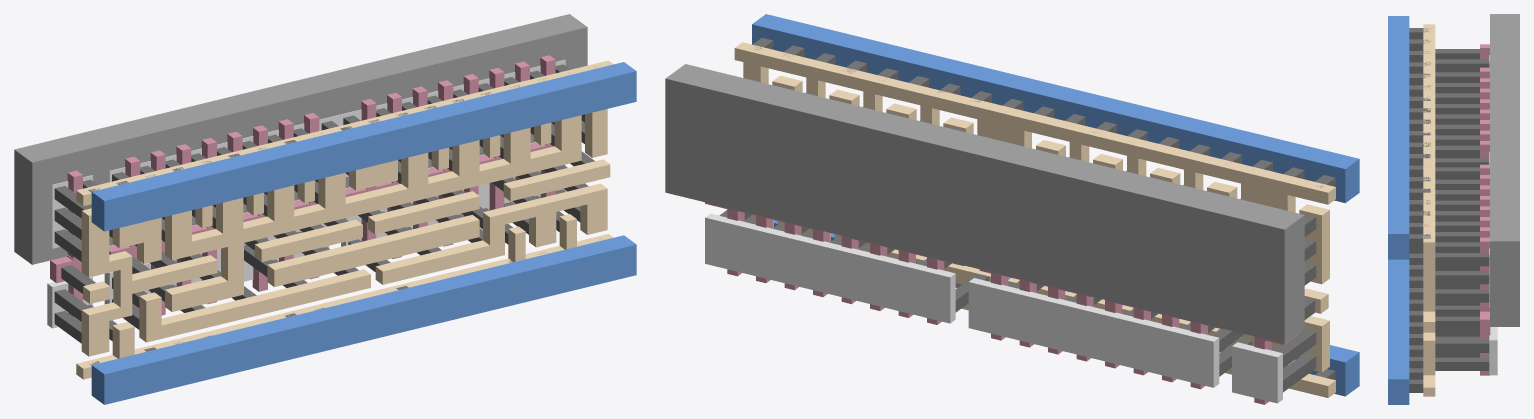
The model's file is sky130_fd_sc_hd__nand4b_4.gds.gltf.
3 renders of one model, left to right at view 1: azimuth 30°, elevation 25°; view 2: azimuth 150°, elevation 25°; view 3: azimuth 270°, elevation 25°, orthographic. The views are drawn at different scales.
Visible parts, largest first — view 1: sky130_fd_sc_hd__nand4b_4_li1, sky130_fd_sc_hd__nand4b_4_met1, sky130_fd_sc_hd__nand4b_4_nwell, sky130_fd_sc_hd__nand4b_4_licon, sky130_fd_sc_hd__nand4b_4_poly, sky130_fd_sc_hd__nand4b_4_diff, sky130_fd_sc_hd__nand4b_4_mcon; view 2: sky130_fd_sc_hd__nand4b_4_nwell, sky130_fd_sc_hd__nand4b_4_diff, sky130_fd_sc_hd__nand4b_4_li1, sky130_fd_sc_hd__nand4b_4_met1, sky130_fd_sc_hd__nand4b_4_licon, sky130_fd_sc_hd__nand4b_4_poly, sky130_fd_sc_hd__nand4b_4_mcon; view 3: sky130_fd_sc_hd__nand4b_4_licon, sky130_fd_sc_hd__nand4b_4_nwell, sky130_fd_sc_hd__nand4b_4_met1, sky130_fd_sc_hd__nand4b_4_mcon, sky130_fd_sc_hd__nand4b_4_li1, sky130_fd_sc_hd__nand4b_4_poly, sky130_fd_sc_hd__nand4b_4_diff.
Part boxes in pixels (box(x1,y1,x2,y2)): sky130_fd_sc_hd__nand4b_4_li1: box(76, 60, 613, 379); sky130_fd_sc_hd__nand4b_4_met1: box(91, 62, 636, 404); sky130_fd_sc_hd__nand4b_4_nwell: box(14, 14, 587, 264); sky130_fd_sc_hd__nand4b_4_licon: box(54, 64, 594, 343); sky130_fd_sc_hd__nand4b_4_poly: box(50, 55, 555, 322); sky130_fd_sc_hd__nand4b_4_diff: box(47, 59, 565, 328); sky130_fd_sc_hd__nand4b_4_mcon: box(88, 78, 548, 365); sky130_fd_sc_hd__nand4b_4_nwell: box(665, 64, 1304, 343); sky130_fd_sc_hd__nand4b_4_diff: box(705, 213, 1282, 403); sky130_fd_sc_hd__nand4b_4_li1: box(734, 42, 1335, 397); sky130_fd_sc_hd__nand4b_4_met1: box(752, 14, 1359, 396); sky130_fd_sc_hd__nand4b_4_licon: box(719, 78, 1316, 392); sky130_fd_sc_hd__nand4b_4_poly: box(705, 202, 1290, 404); sky130_fd_sc_hd__nand4b_4_mcon: box(753, 38, 1335, 379); sky130_fd_sc_hd__nand4b_4_licon: box(1435, 49, 1489, 370); sky130_fd_sc_hd__nand4b_4_nwell: box(1490, 14, 1519, 326); sky130_fd_sc_hd__nand4b_4_met1: box(1388, 16, 1409, 404); sky130_fd_sc_hd__nand4b_4_mcon: box(1409, 28, 1430, 392); sky130_fd_sc_hd__nand4b_4_li1: box(1423, 24, 1435, 396); sky130_fd_sc_hd__nand4b_4_poly: box(1480, 44, 1490, 375); sky130_fd_sc_hd__nand4b_4_diff: box(1489, 55, 1497, 375).
Bounding box in the file's own units: 9.12 × 3.2 × 2.24.
